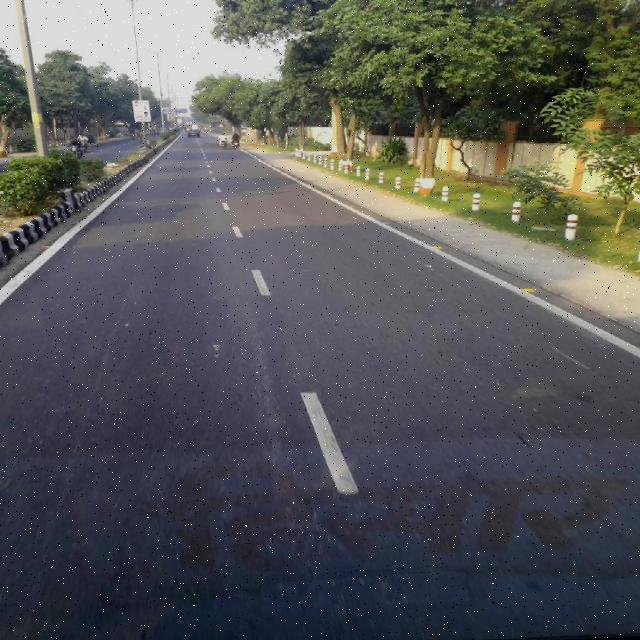D00: (39, 223, 167, 565)
